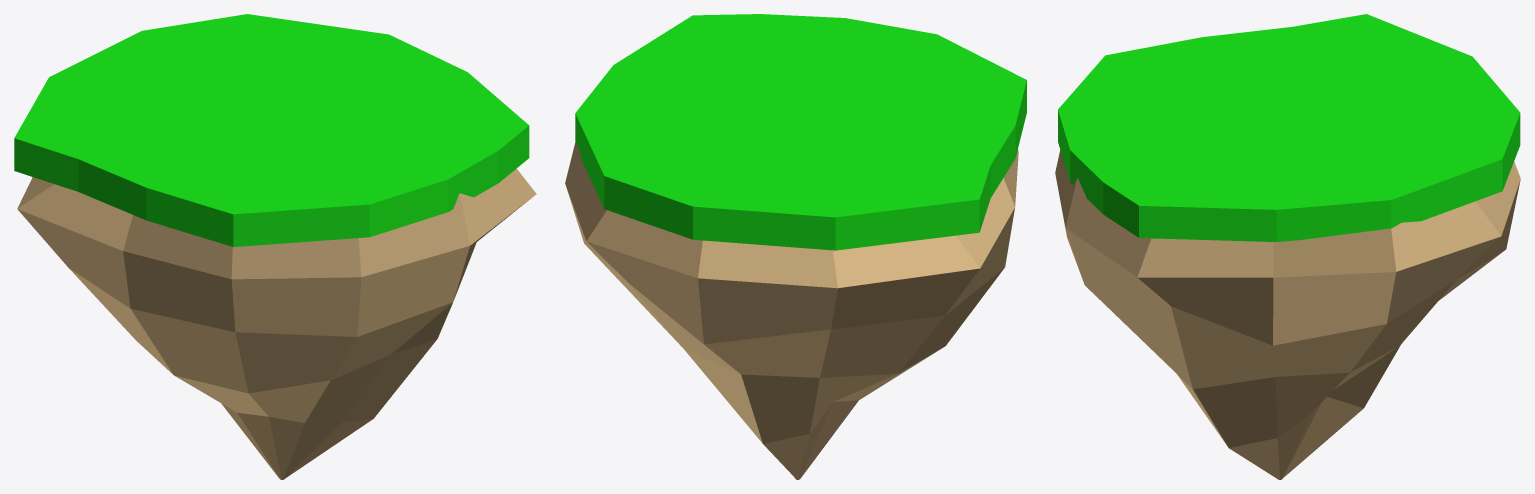
Rendered from floating_island.fbx.
The picture shows the model from 3 angles, left to right: view 1: azimuth 30°, elevation 25°; view 2: azimuth 150°, elevation 25°; view 3: azimuth 270°, elevation 25°; orthographic projection. The views are drawn at different scales.
Visible parts, largest first — view 1: platform, Island; view 2: platform, Island; view 3: platform, Island.
Part boxes in pixels (box(x1,y1,x2,y2)): platform: box(14, 14, 529, 246); Island: box(17, 168, 536, 479); platform: box(575, 14, 1026, 250); Island: box(565, 143, 1018, 479); platform: box(1058, 14, 1520, 241); Island: box(1055, 150, 1520, 479).
Size of the model in its own units: 105 by 88.16 by 104.
